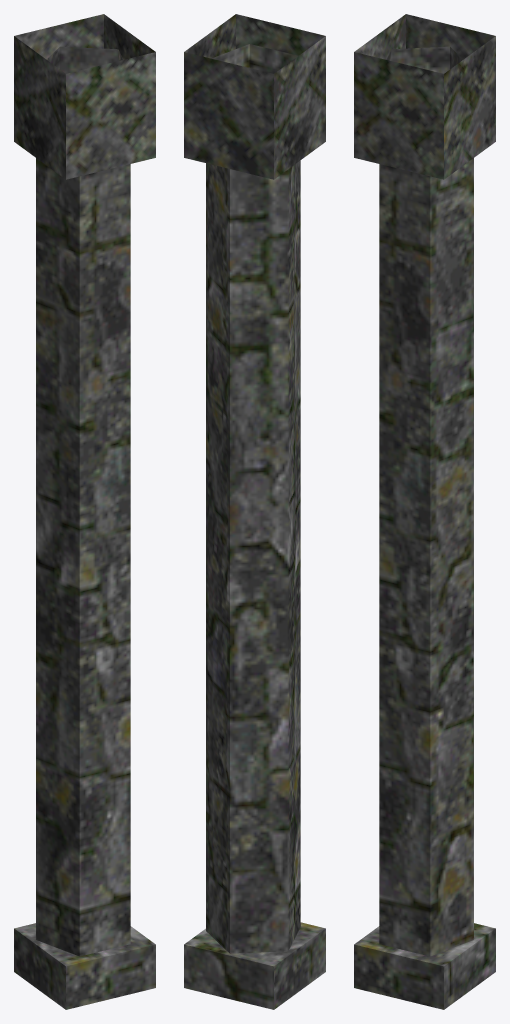
Rendered from Pillar.fbx.
The picture shows the model from 3 angles, left to right: view 1: azimuth 30°, elevation 25°; view 2: azimuth 150°, elevation 25°; view 3: azimuth 330°, elevation 25°; orthographic projection.
Parts seen in each view (by area): view 1: Pillar; view 2: Pillar; view 3: Pillar.
Boxes of the visible parts, <box> form: Pillar: <box>14,14,155,1009</box>; Pillar: <box>184,14,325,1009</box>; Pillar: <box>354,14,495,1009</box>.
Size of the model in its own units: 108 by 1075 by 108.
